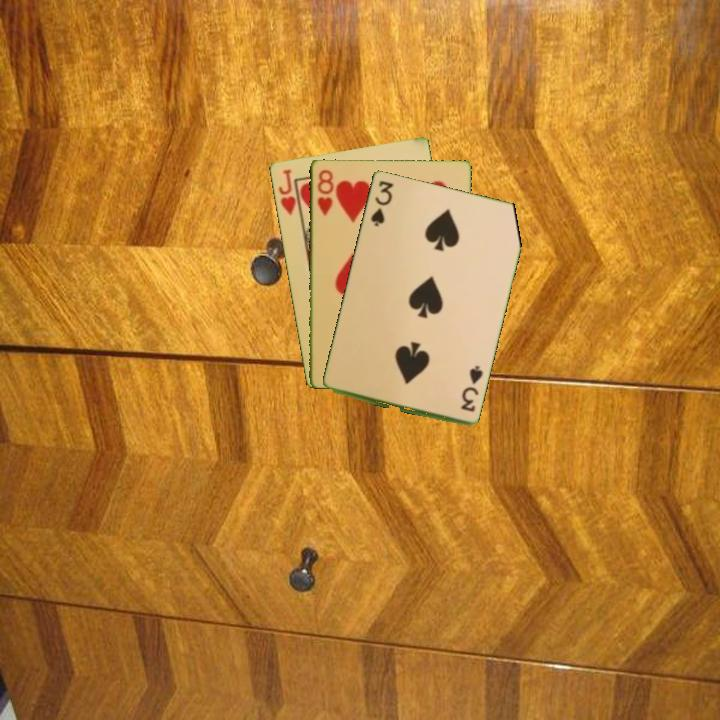3s: (367, 177, 396, 229), (457, 364, 486, 414)
8h: (314, 166, 335, 218)
Jh: (275, 166, 298, 218)
